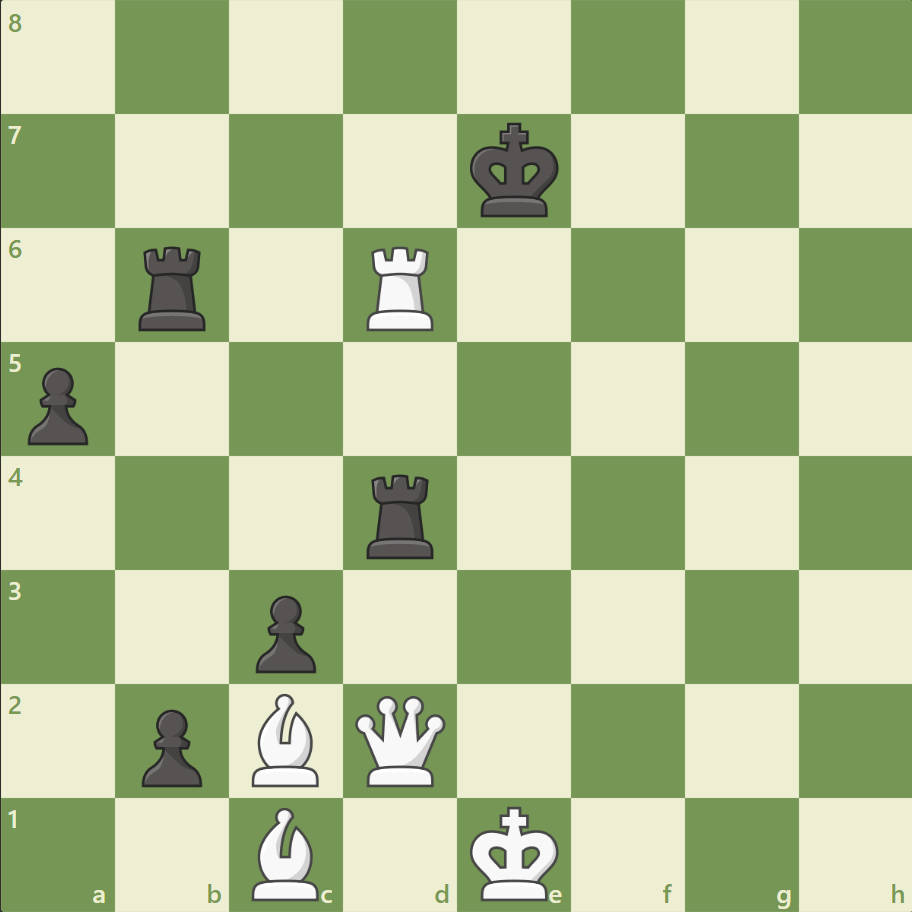B: (244, 687, 328, 790), (244, 801, 328, 904)
K: (465, 798, 565, 906)
Q: (351, 690, 450, 789)
R: (360, 239, 442, 336)
k: (465, 117, 565, 225)
p: (20, 359, 95, 450), (247, 586, 322, 677), (133, 700, 208, 791)
r: (133, 239, 215, 336), (360, 466, 442, 563)
